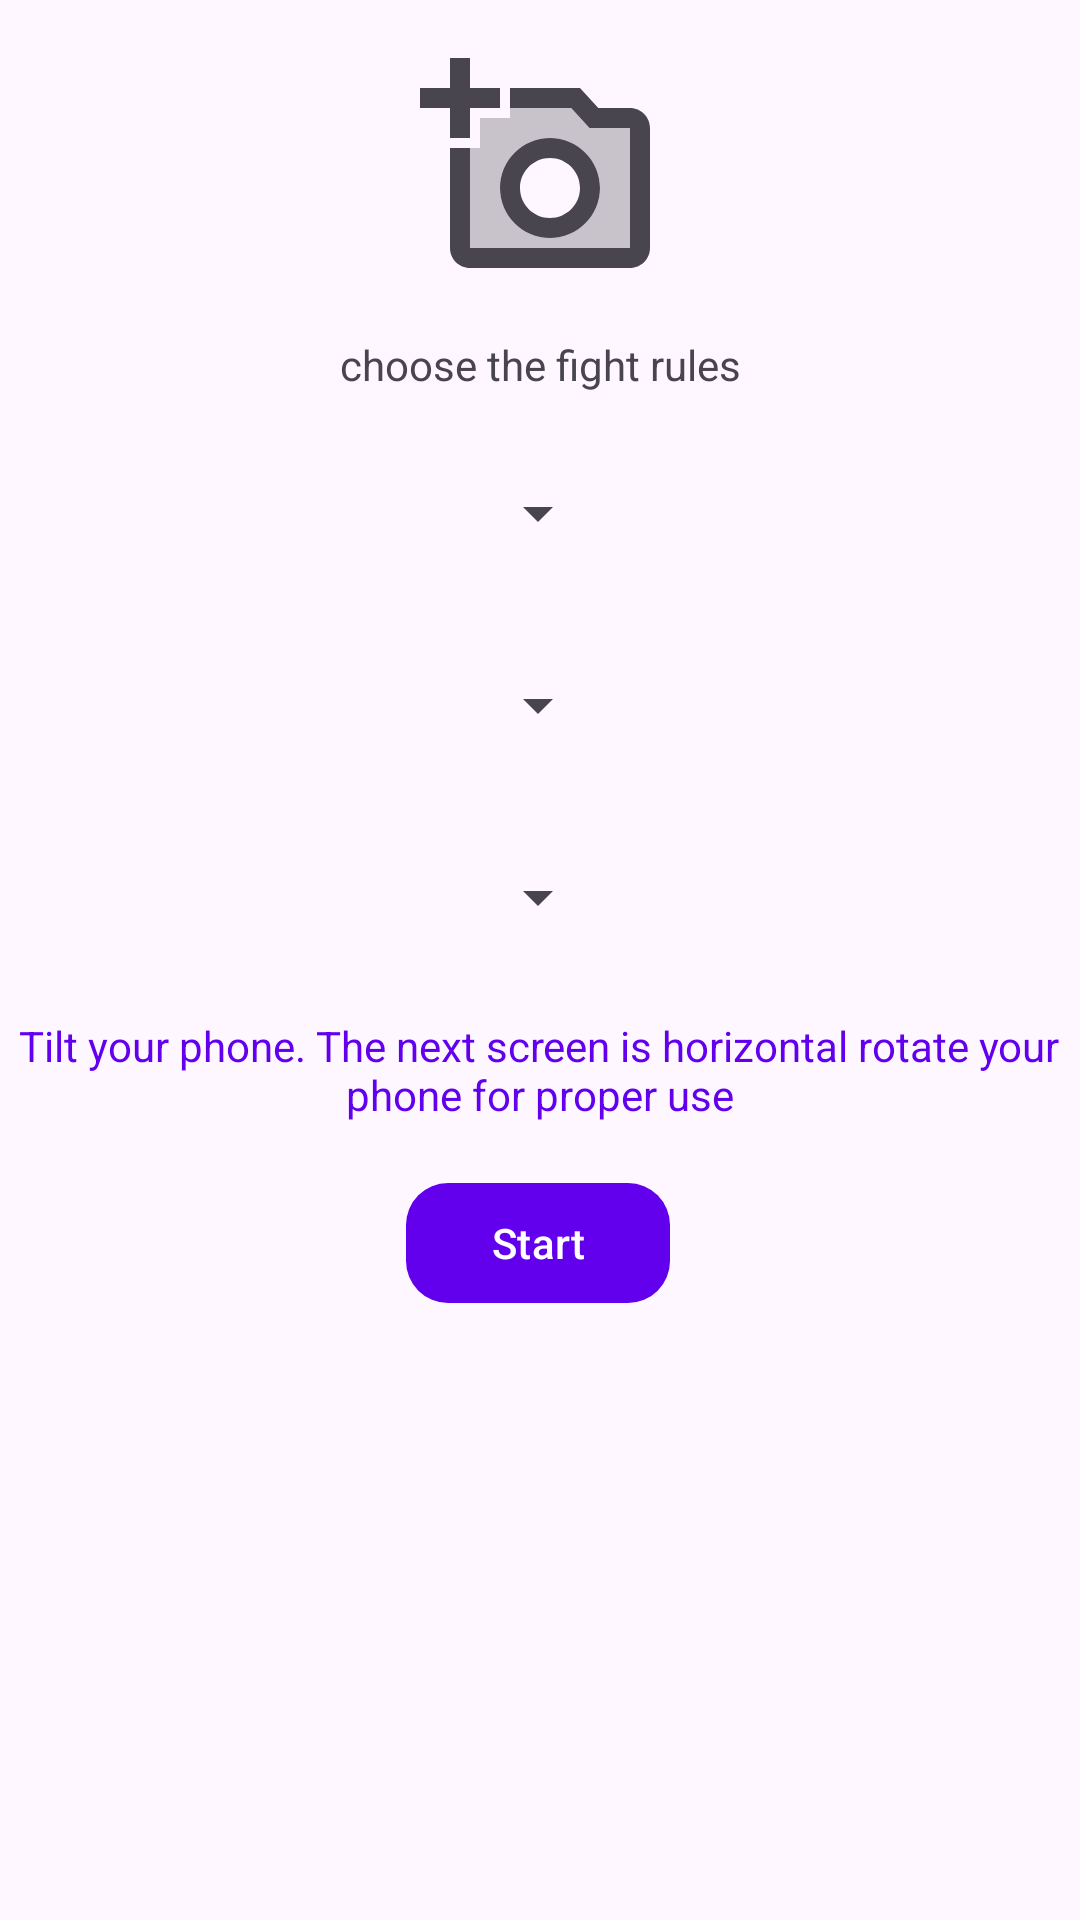

Point at icon controls on the screen. Image size 1080w x 1920h, points as point (x, y).
add photo: point (535, 163)
